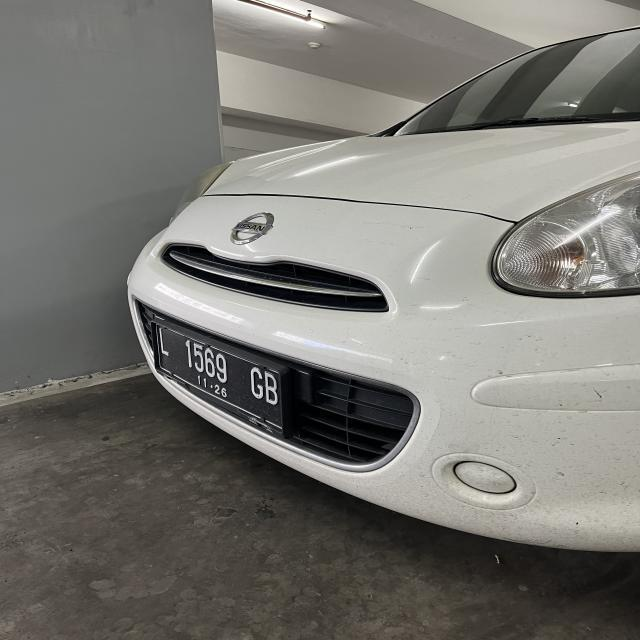1: (182, 338, 192, 369)
5: (195, 341, 205, 376)
6: (206, 346, 214, 380)
9: (216, 354, 228, 384)
B: (264, 372, 280, 404)
G: (250, 366, 264, 400)
L: (157, 326, 170, 361)
